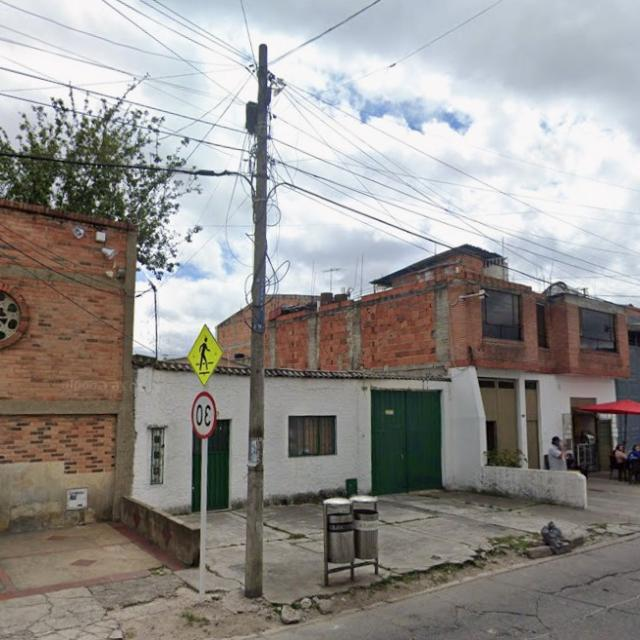Fachada: (266, 245, 629, 468), (266, 367, 586, 508), (133, 357, 201, 513), (207, 365, 249, 509), (217, 309, 250, 363)
Poste: (245, 45, 271, 597)
